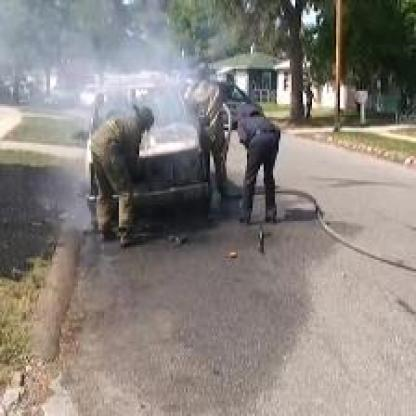other: (138, 104, 202, 154)
